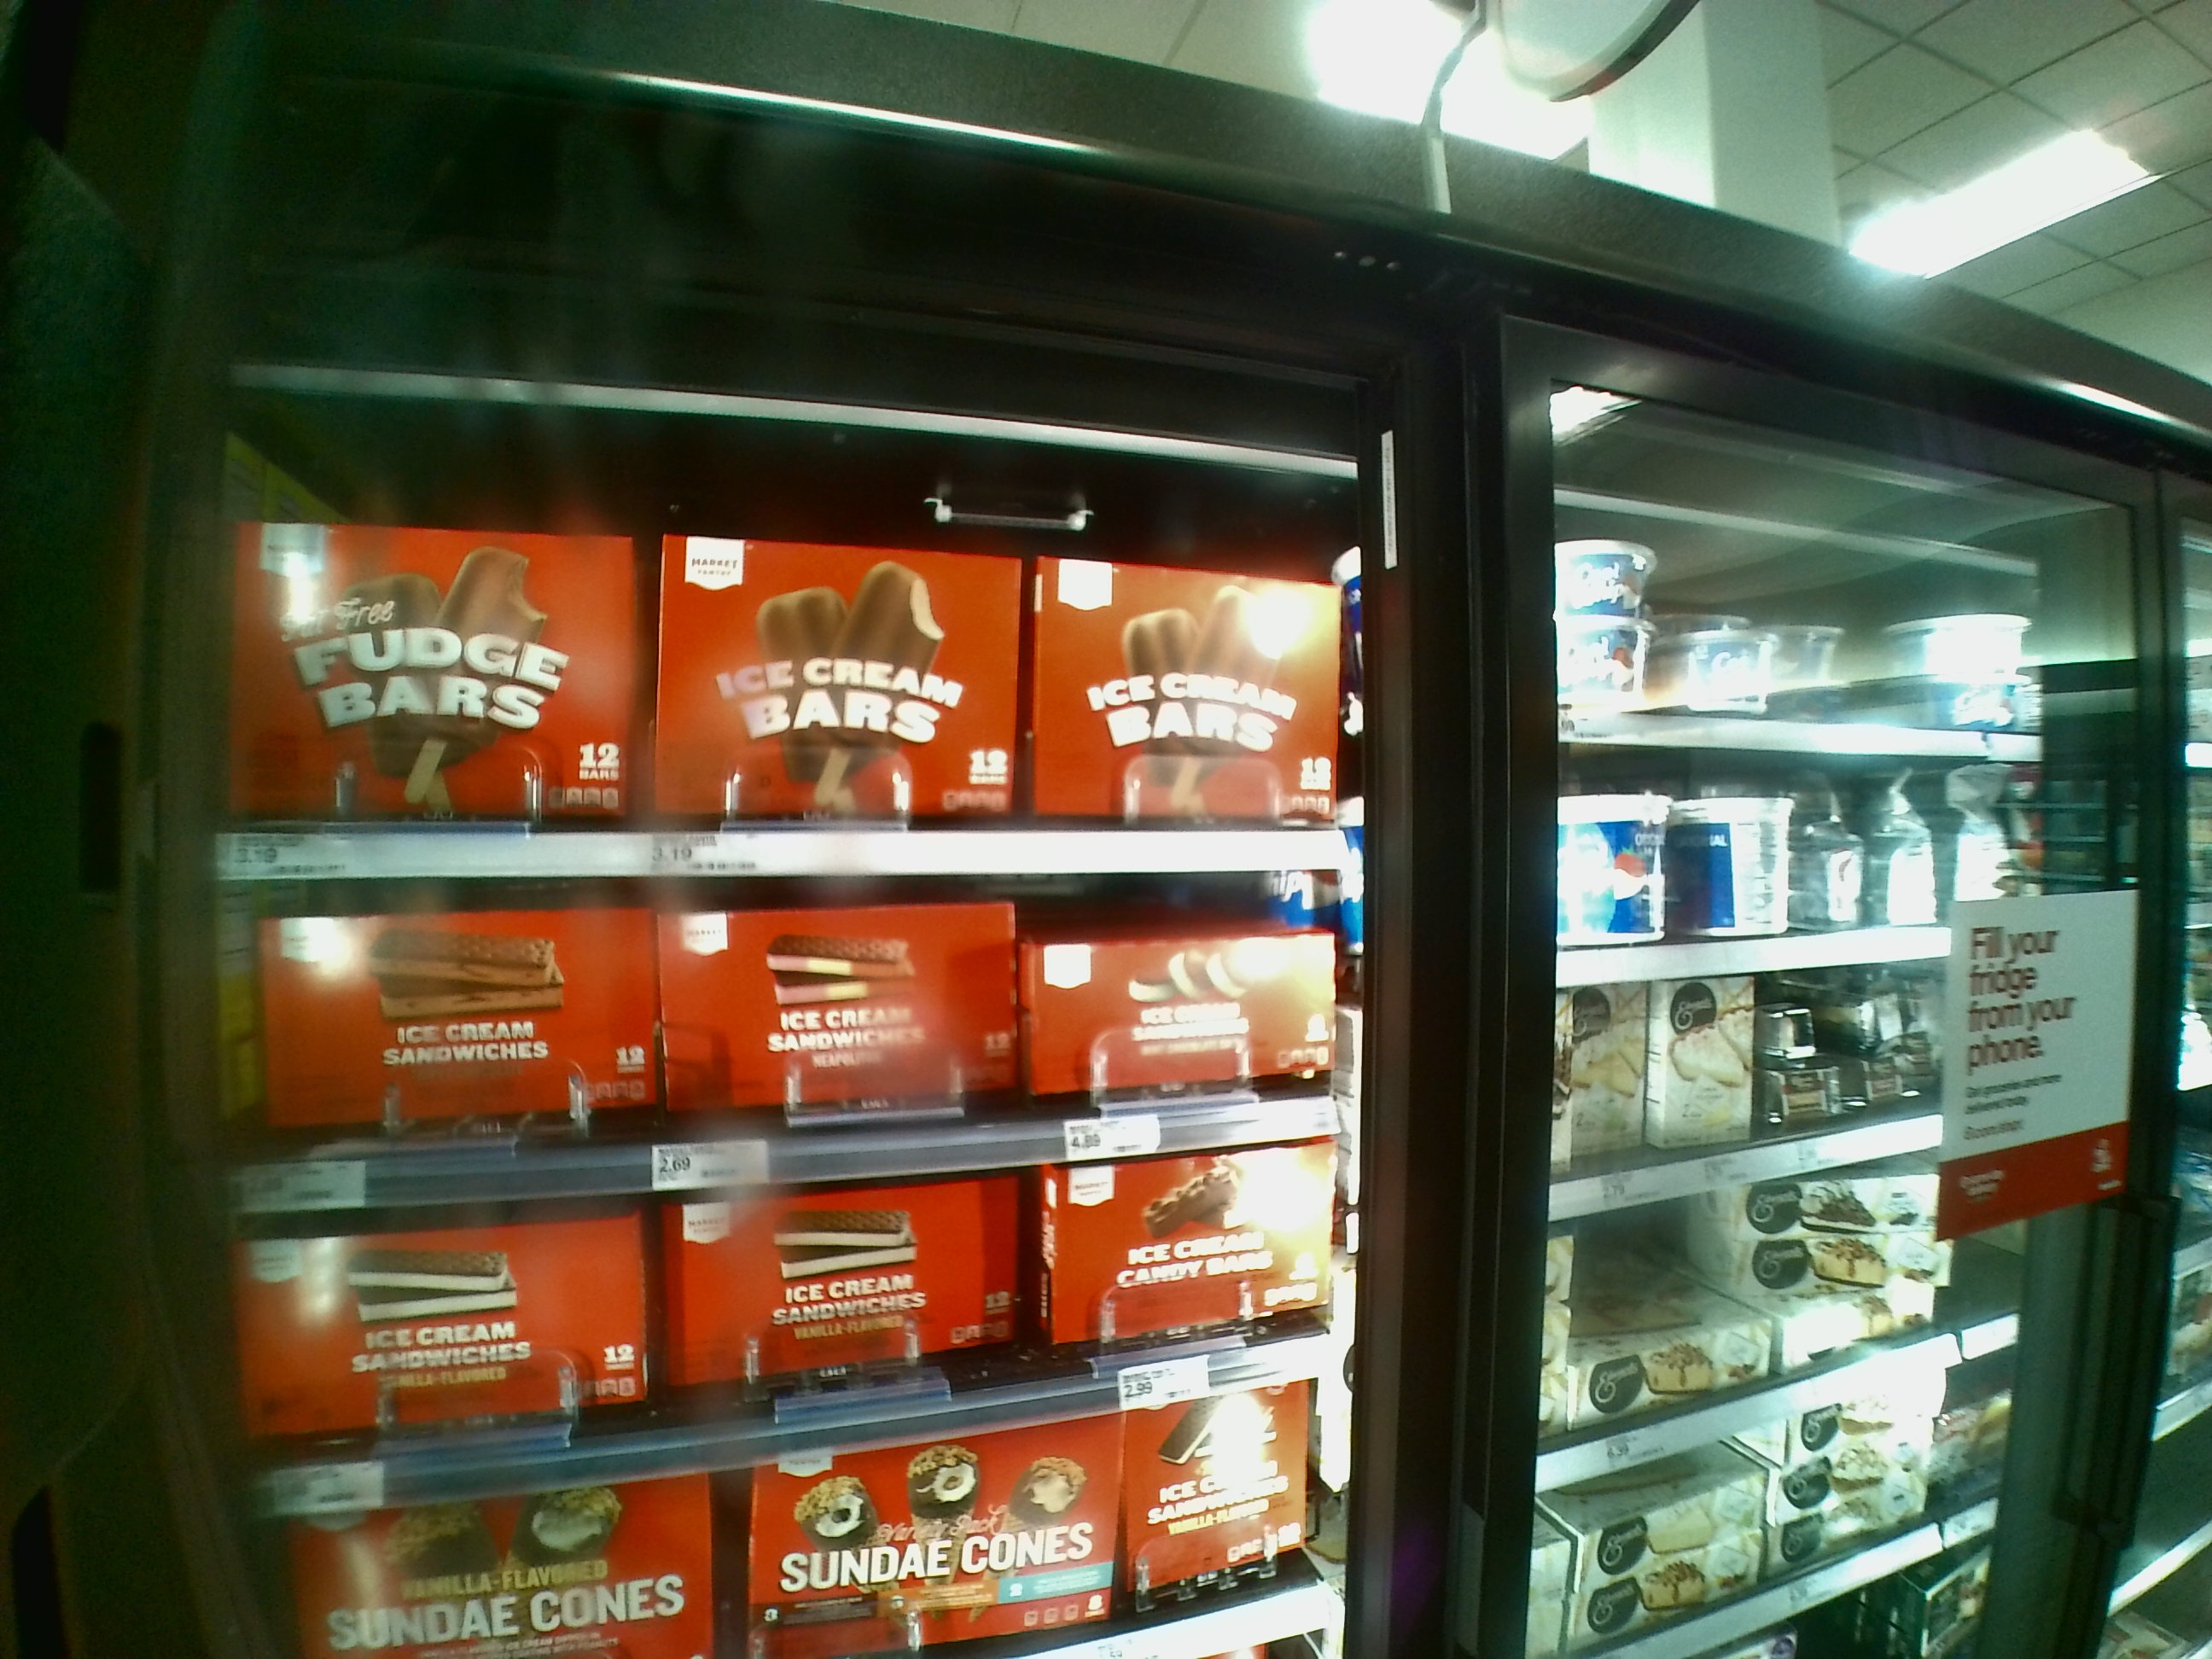shelf: (230, 406, 1359, 871), (261, 1159, 1357, 1473), (225, 887, 1332, 1188)
